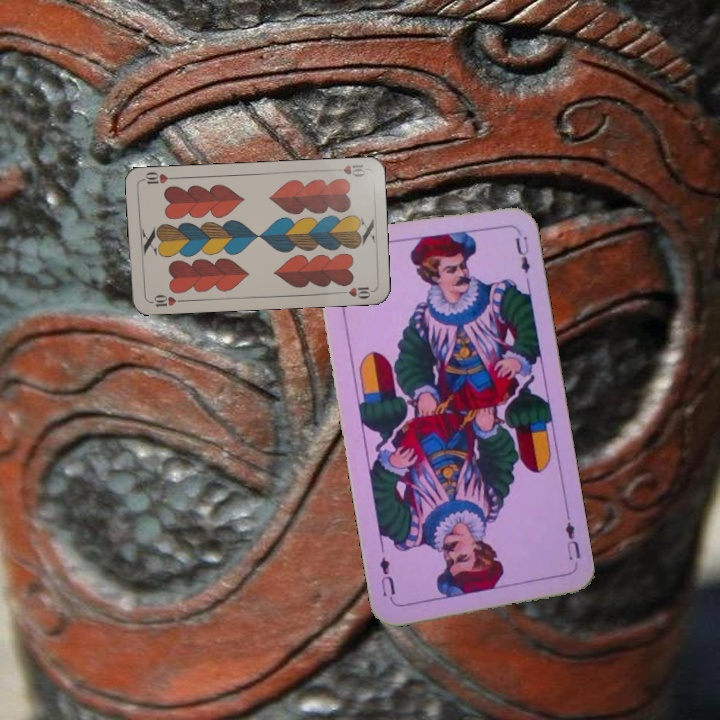EU: (561, 512, 583, 563)
H10: (328, 160, 368, 180), (145, 291, 186, 309)
